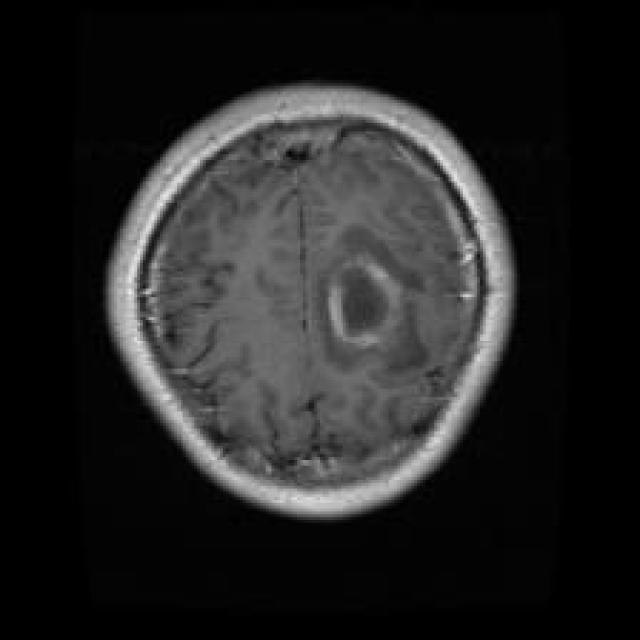glioma_tumor: (320, 220, 429, 398)
